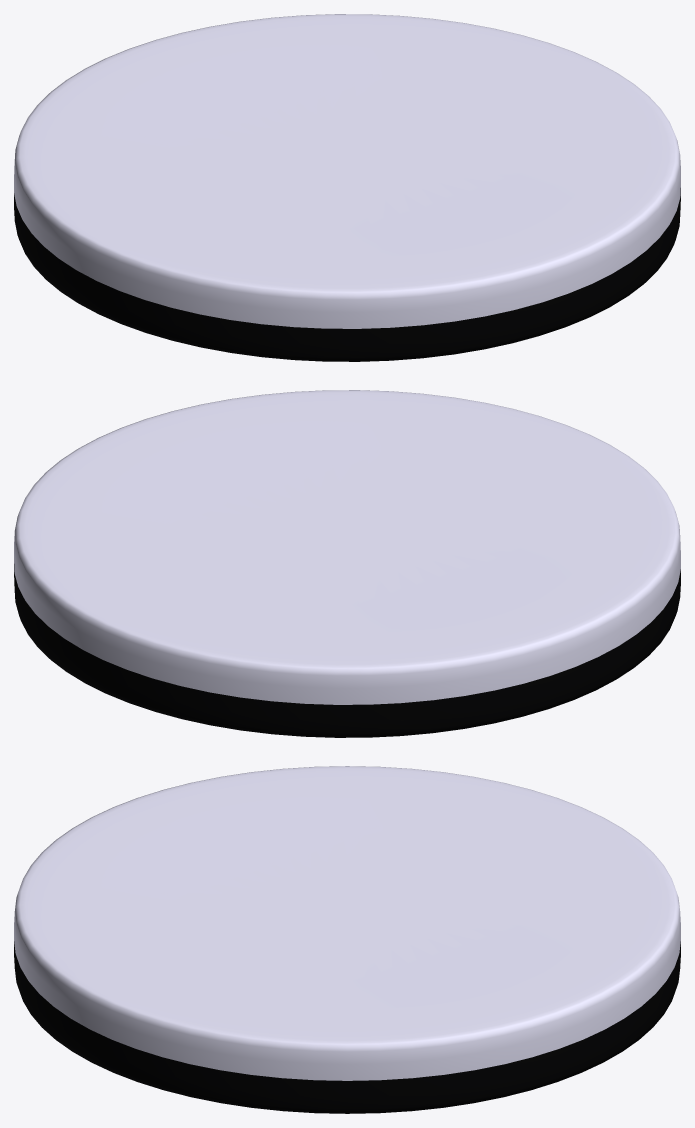
Rendered from disc.obj.
The picture shows the model from 3 angles, top to bottom: view 1: azimuth 30°, elevation 25°; view 2: azimuth 150°, elevation 25°; view 3: azimuth 270°, elevation 25°; orthographic projection.
Visible parts, largest first — view 1: disc_D4_disc; view 2: disc_D4_disc; view 3: disc_D4_disc.
Part boxes in pixels (bbox=[...]): disc_D4_disc: bbox=[14, 14, 680, 361]; disc_D4_disc: bbox=[14, 390, 680, 737]; disc_D4_disc: bbox=[14, 766, 680, 1113].
Bounding box in the file's own units: 0.8992 × 0.1054 × 0.8992.
